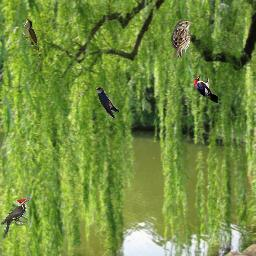Cuckoo: (23, 18, 41, 58)
Sparrow: (171, 19, 194, 59)
Swallow: (96, 87, 127, 120)
Woodpecker: (1, 198, 32, 238), (194, 74, 218, 104)
